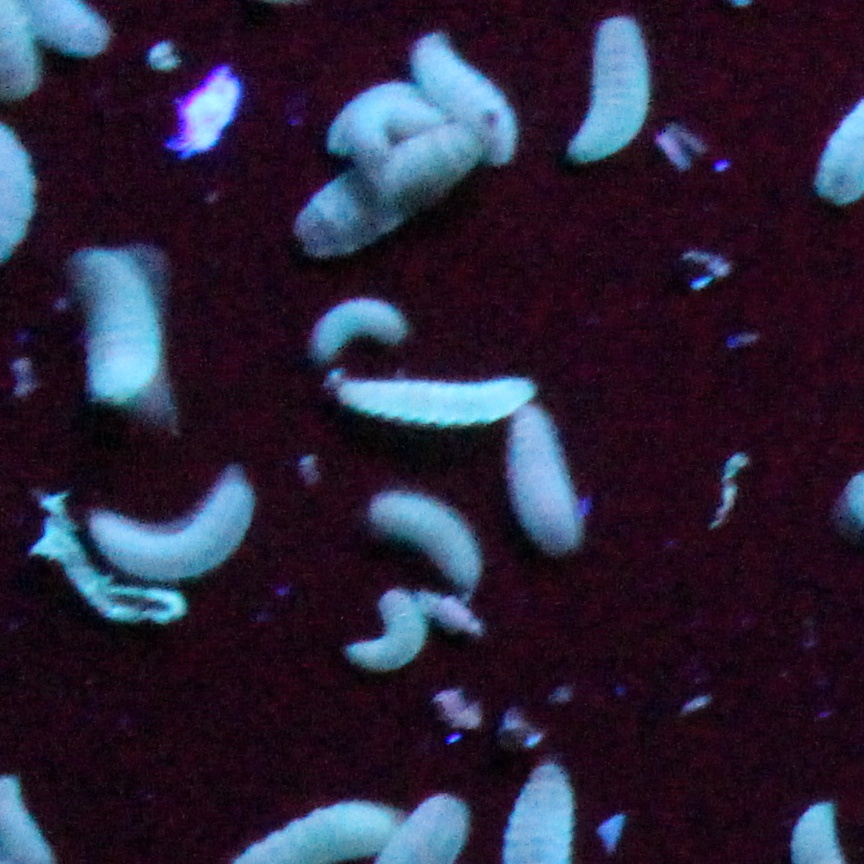larve: (295, 128, 488, 250), (70, 242, 170, 404), (92, 479, 246, 581), (566, 19, 660, 166), (413, 30, 515, 158), (511, 405, 584, 550), (370, 489, 474, 583), (335, 376, 539, 419), (344, 585, 433, 666), (313, 299, 417, 362), (327, 83, 458, 128)
